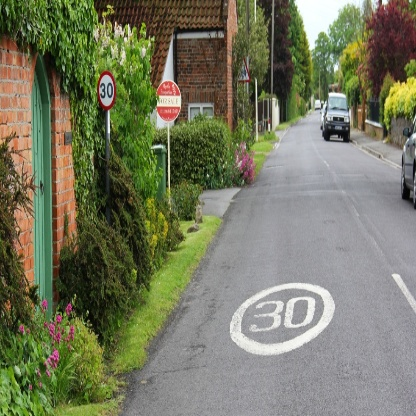limit2: (95, 71, 120, 110)
